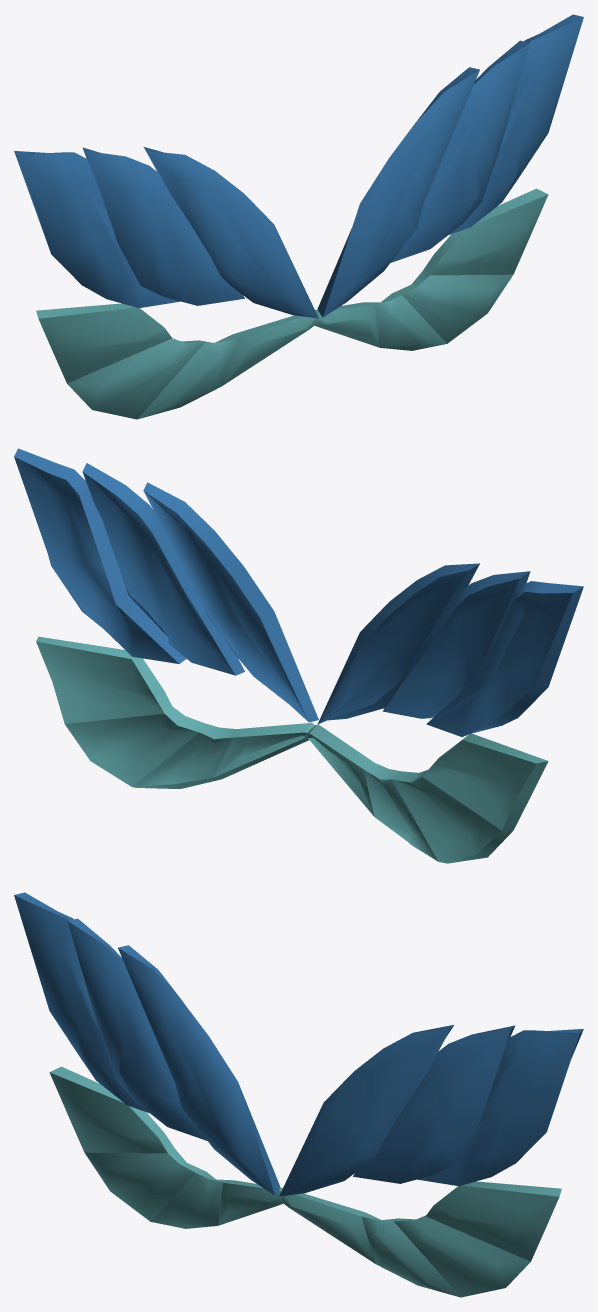
3 views of the same model, one above another, from view 1: azimuth 30°, elevation 25°; view 2: azimuth 150°, elevation 25°; view 3: azimuth 330°, elevation 25° (orthographic).
Parts seen in each view (by area): view 1: w_Mask00; view 2: w_Mask00; view 3: w_Mask00.
Part boxes in pixels (x1,y1,x2,y2): w_Mask00: [14, 14, 583, 419]; w_Mask00: [14, 448, 583, 863]; w_Mask00: [14, 892, 583, 1297].
Size of the model in its own units: 0.875 by 0.4462 by 0.1144.
